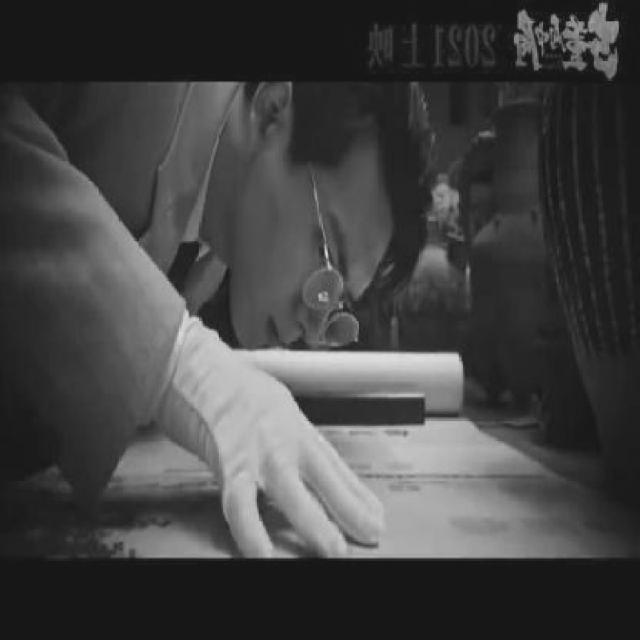face_nomask: (211, 143, 392, 362)
glasses: (301, 259, 365, 353)
hand_glove: (163, 348, 385, 557)
head_nohelmet: (366, 83, 452, 237)
person: (0, 71, 485, 640)
